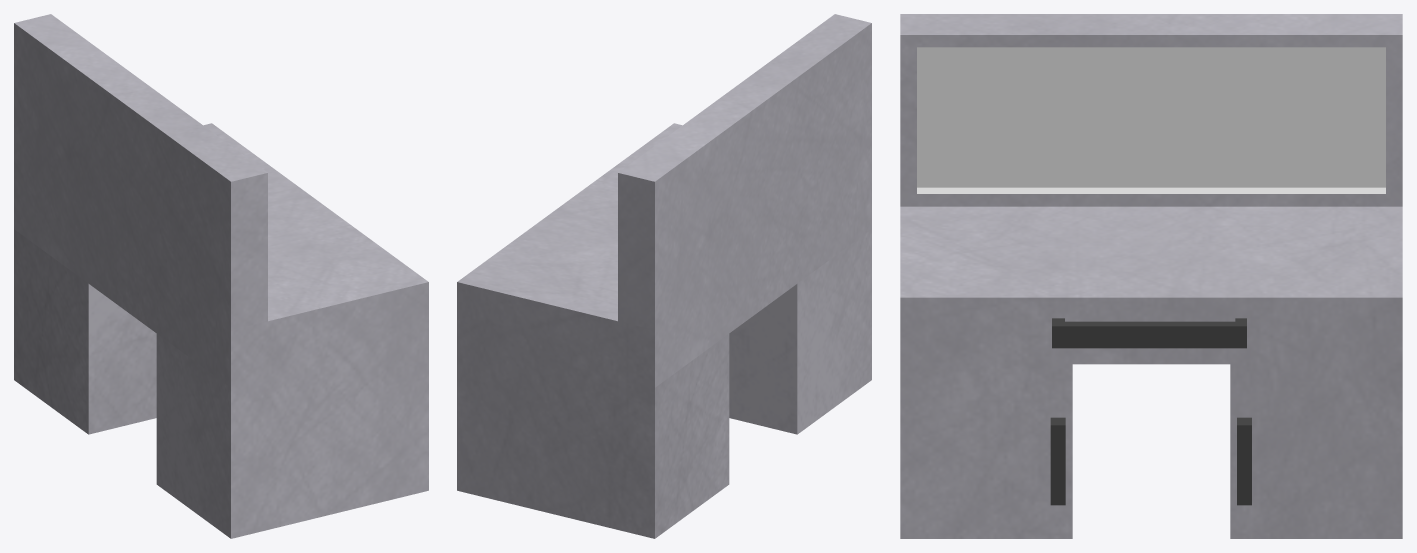
3 views of the same model, side by side, from view 1: azimuth 30°, elevation 25°; view 2: azimuth 150°, elevation 25°; view 3: azimuth 270°, elevation 25° (orthographic). The views are drawn at different scales.
Parts seen in each view (by area): view 1: pCube7; view 2: pCube7; view 3: pCube7.
Boxes of the visible parts, x1,y1,x2,y2 form: pCube7: (14,14,428,538); pCube7: (457,14,871,538); pCube7: (900,14,1402,538).
Size of the model in its own units: 5.56 by 8.96 by 9.87.
